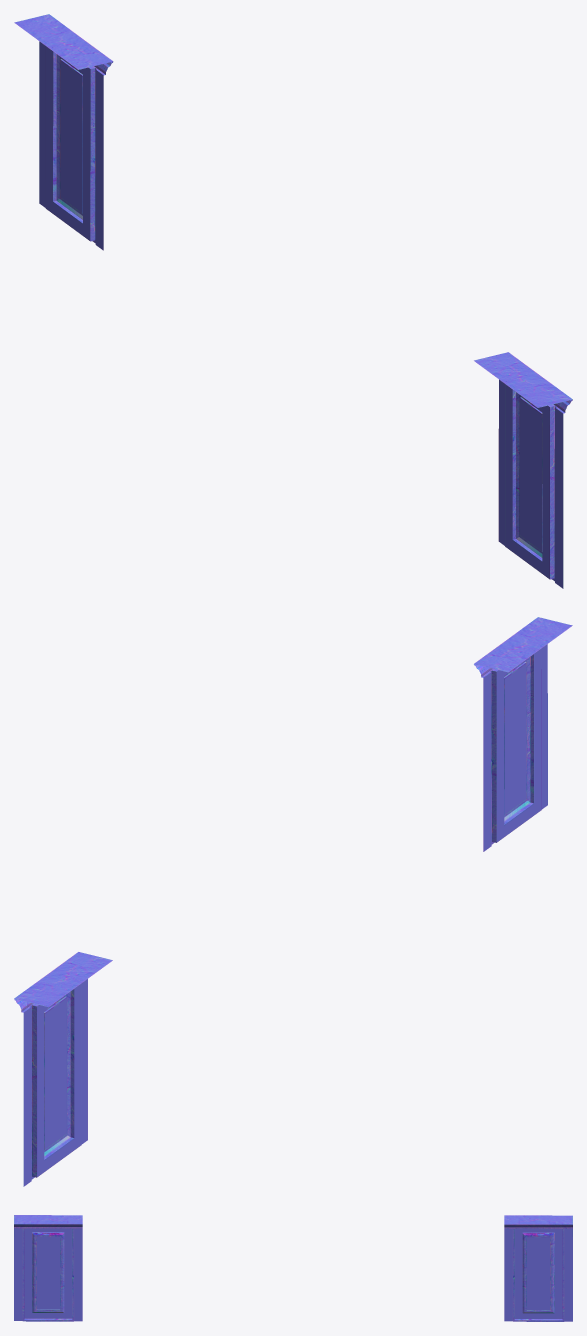
The picture shows the model from 3 angles, top to bottom: view 1: azimuth 30°, elevation 25°; view 2: azimuth 150°, elevation 25°; view 3: azimuth 270°, elevation 25°; orthographic projection. The views are drawn at different scales.
Visible parts, largest first — view 1: _2F_brick_low_001; view 2: _2F_brick_low_001; view 3: _2F_brick_low_001.
Part boxes in pixels (x1,y1,x2,y2): _2F_brick_low_001: [14, 14, 572, 588]; _2F_brick_low_001: [14, 617, 572, 1186]; _2F_brick_low_001: [14, 1215, 572, 1321].
Size of the model in its own units: 89.96 by 436 by 2220.
